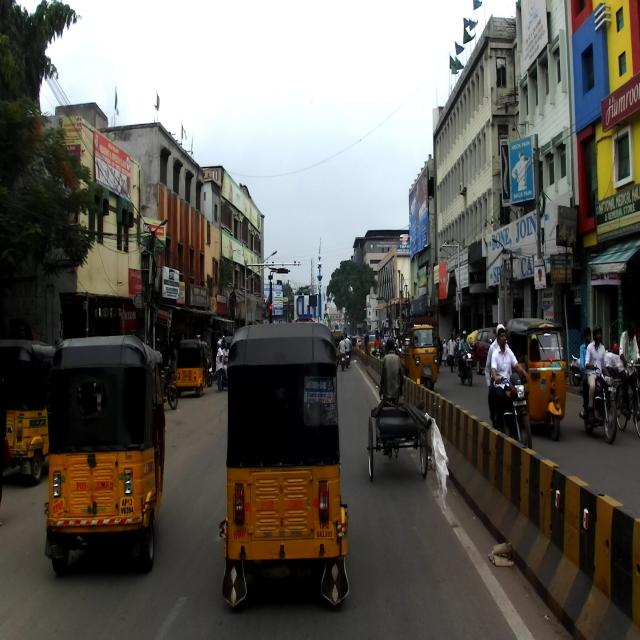autorickshaw: (220, 323, 350, 607), (42, 335, 170, 574), (0, 336, 58, 485), (504, 316, 568, 442), (398, 320, 438, 388)
motorcycle_Hero: (488, 371, 532, 454), (579, 359, 617, 445)
